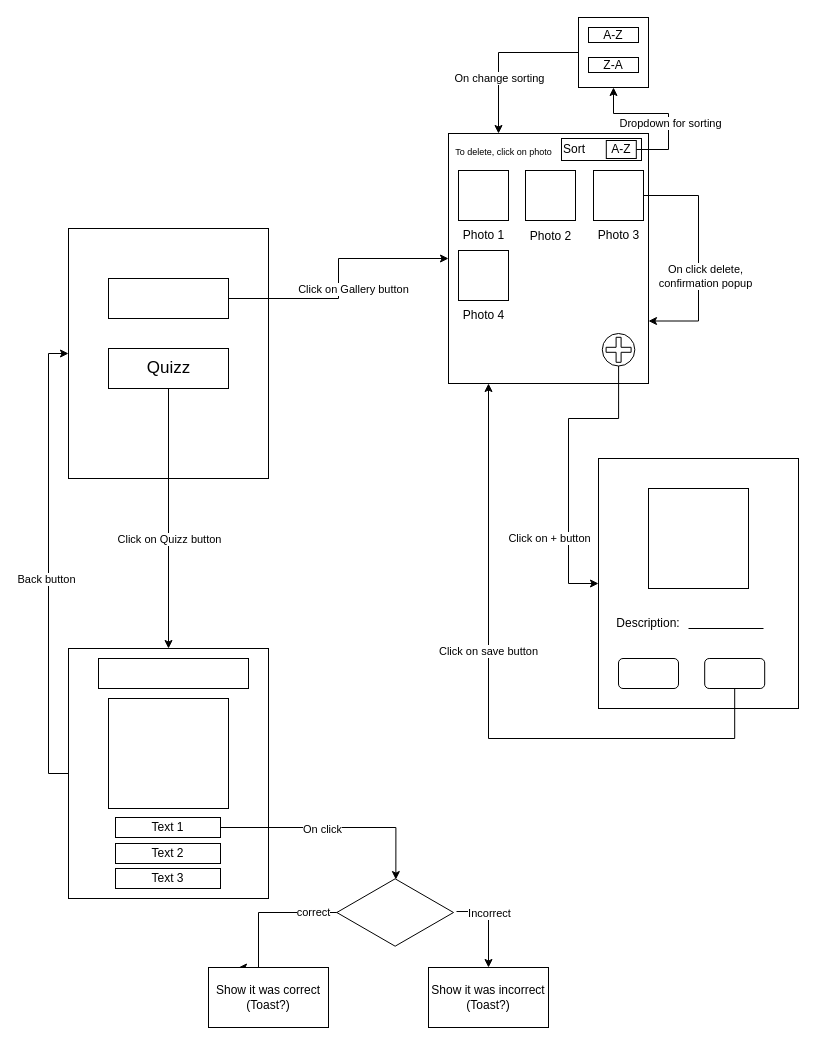
This 816x1045 diagram has some shape labels left out. Each missing label, with the centre of its shape:
Correct?: the point at 395,912
Gallery: the point at 168,298
Save: the point at 734,673
Score: 3/10: the point at 173,673
Select photo: the point at 648,673
